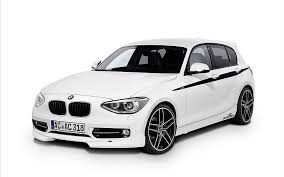bmw: (23, 35, 266, 155)
